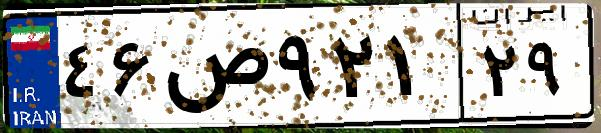1: (385, 28, 445, 110)
2: (330, 28, 385, 110), (475, 38, 525, 113)
4: (57, 26, 110, 100)
6: (110, 28, 158, 98)
9: (270, 28, 330, 110), (525, 38, 570, 115)
ص: (158, 20, 270, 120)
